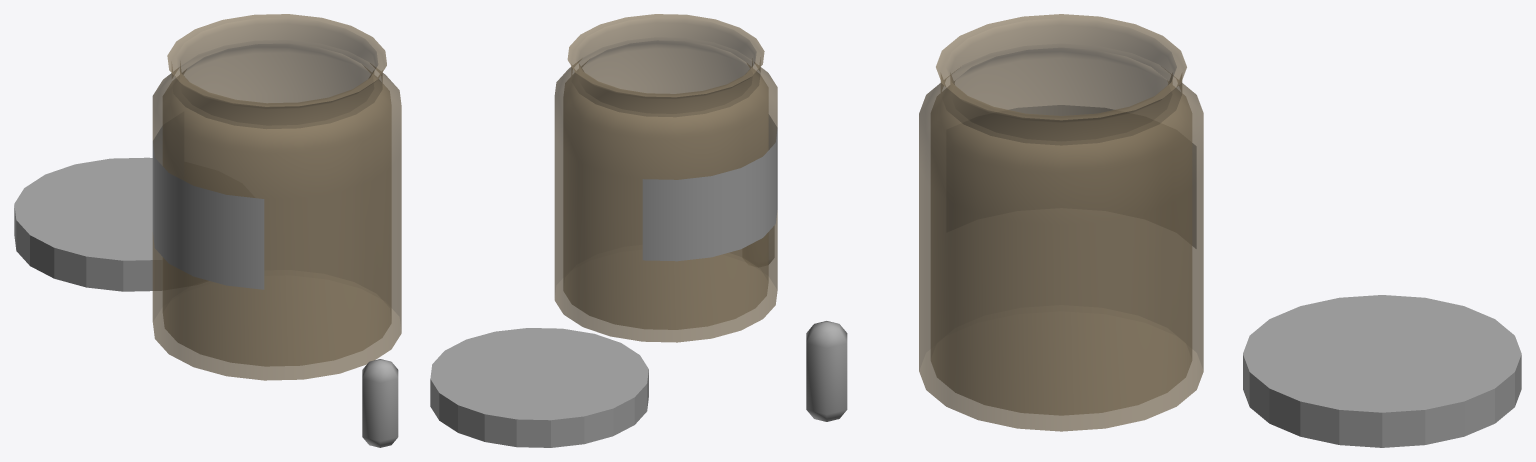
Rendered from SomaBox_low.fbx.
The picture shows the model from 3 angles, left to right: view 1: azimuth 30°, elevation 25°; view 2: azimuth 150°, elevation 25°; view 3: azimuth 270°, elevation 25°; orthographic projection. The views are drawn at different scales.
Visible parts, largest first — view 1: SomaBox_low, Couvercle_low, SomaPills_low; view 2: SomaBox_low, Couvercle_low; view 3: SomaBox_low, Couvercle_low, SomaPills_low.
Boxes of the visible parts, box(x1,y1,x2,y2) form: SomaBox_low: box(152, 14, 401, 380); Couvercle_low: box(14, 157, 162, 291); SomaPills_low: box(362, 359, 398, 447); SomaBox_low: box(554, 14, 777, 342); Couvercle_low: box(430, 328, 648, 447); SomaBox_low: box(919, 14, 1203, 431); Couvercle_low: box(1243, 295, 1521, 447); SomaPills_low: box(806, 321, 847, 421).
Bounding box in the file's own units: 5 × 6.84 × 12.57.
